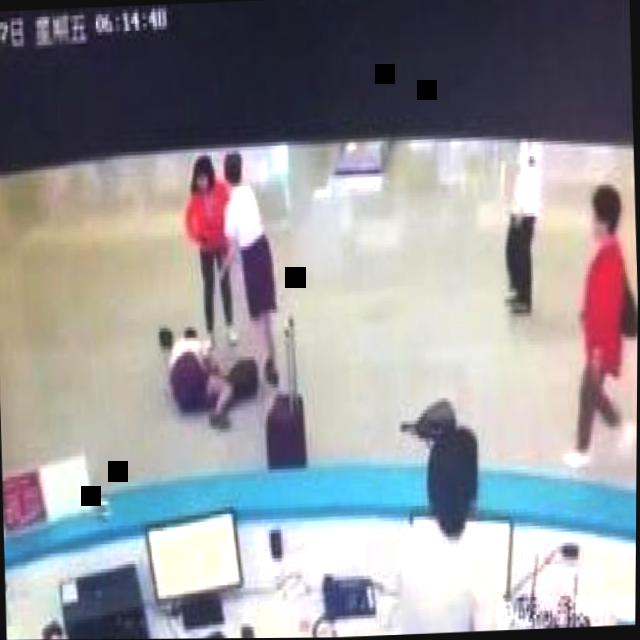Fall-Detected: (150, 300, 238, 425)
